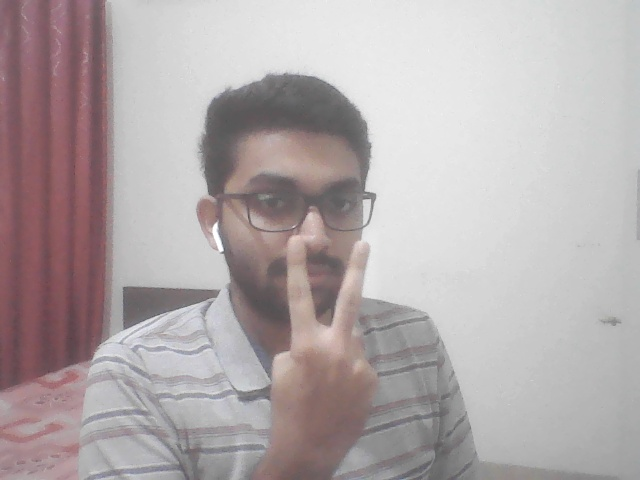see: (250, 226, 392, 479)
